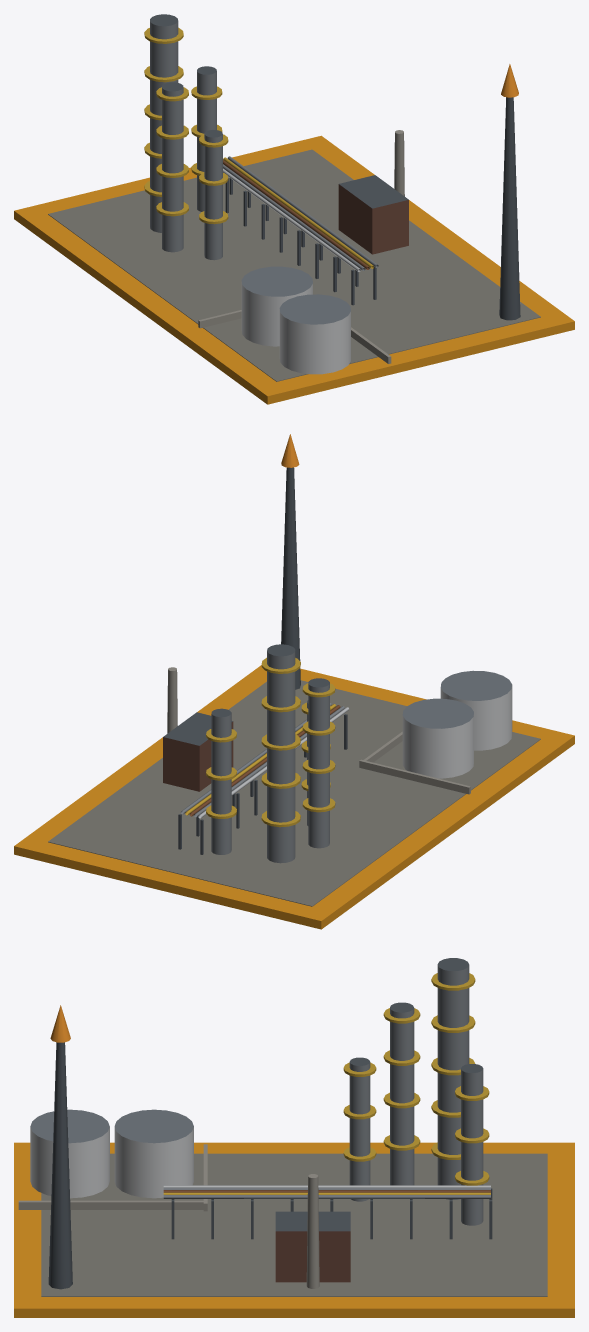
The model's file is refinery_amber.glb.
The picture shows the model from 3 angles, top to bottom: view 1: azimuth 30°, elevation 25°; view 2: azimuth 150°, elevation 25°; view 3: azimuth 270°, elevation 25°; orthographic projection. The views are drawn at different scales.
Parts seen in each view (by area): view 1: refinery_amber; view 2: refinery_amber; view 3: refinery_amber.
Part boxes in pixels (x1,y1,x2,y2): refinery_amber: (14, 14, 574, 404); refinery_amber: (14, 434, 574, 929); refinery_amber: (14, 958, 574, 1317).
Bounding box in the file's own units: 84 × 68.35 × 120.
